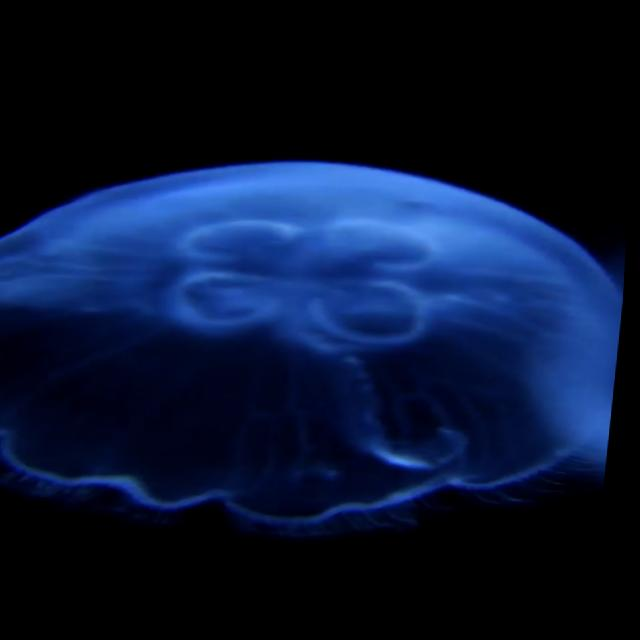Moon-jellyfish: (0, 161, 627, 550)
